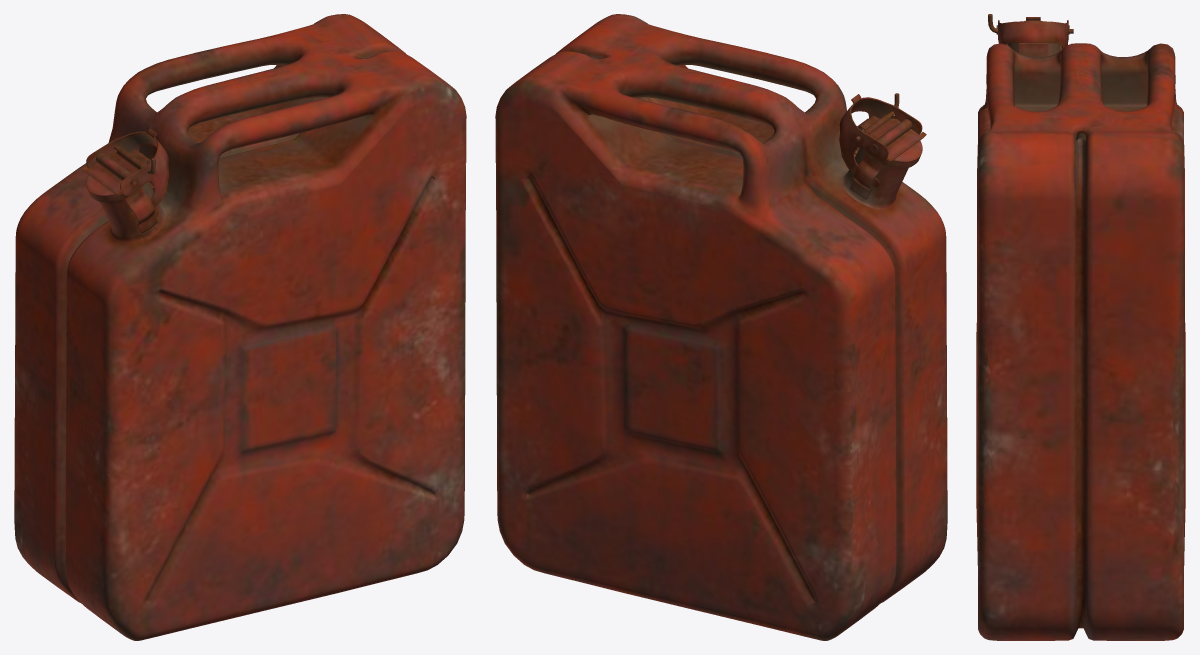
File: gascan.glb
3 views of the same model, side by side, from view 1: azimuth 30°, elevation 25°; view 2: azimuth 150°, elevation 25°; view 3: azimuth 270°, elevation 25° (orthographic). The views are drawn at different scales.
Parts seen in each view (by area): view 1: metal_jerrycan.001; view 2: metal_jerrycan.001; view 3: metal_jerrycan.001.
Part boxes in pixels (x1,y1,x2,y2): metal_jerrycan.001: [14, 14, 466, 640]; metal_jerrycan.001: [495, 14, 947, 640]; metal_jerrycan.001: [976, 14, 1185, 640].
Bounding box in the file's own units: 0.3503 × 0.4552 × 0.1717.
Materials: 1 (1 with a texture image).
